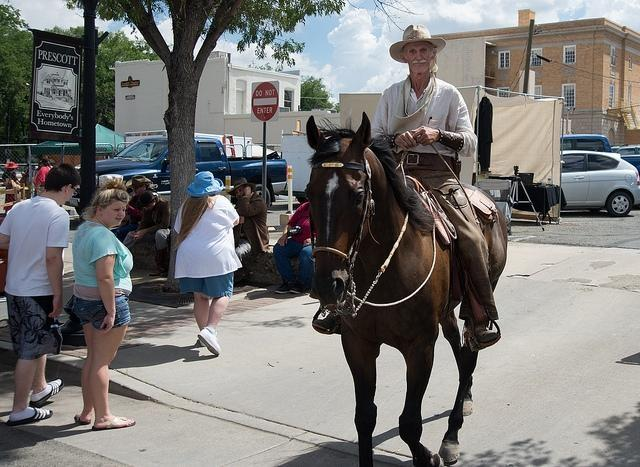car: (560, 149, 640, 217), (615, 145, 640, 165)
truck: (92, 134, 286, 206), (560, 134, 613, 152)
